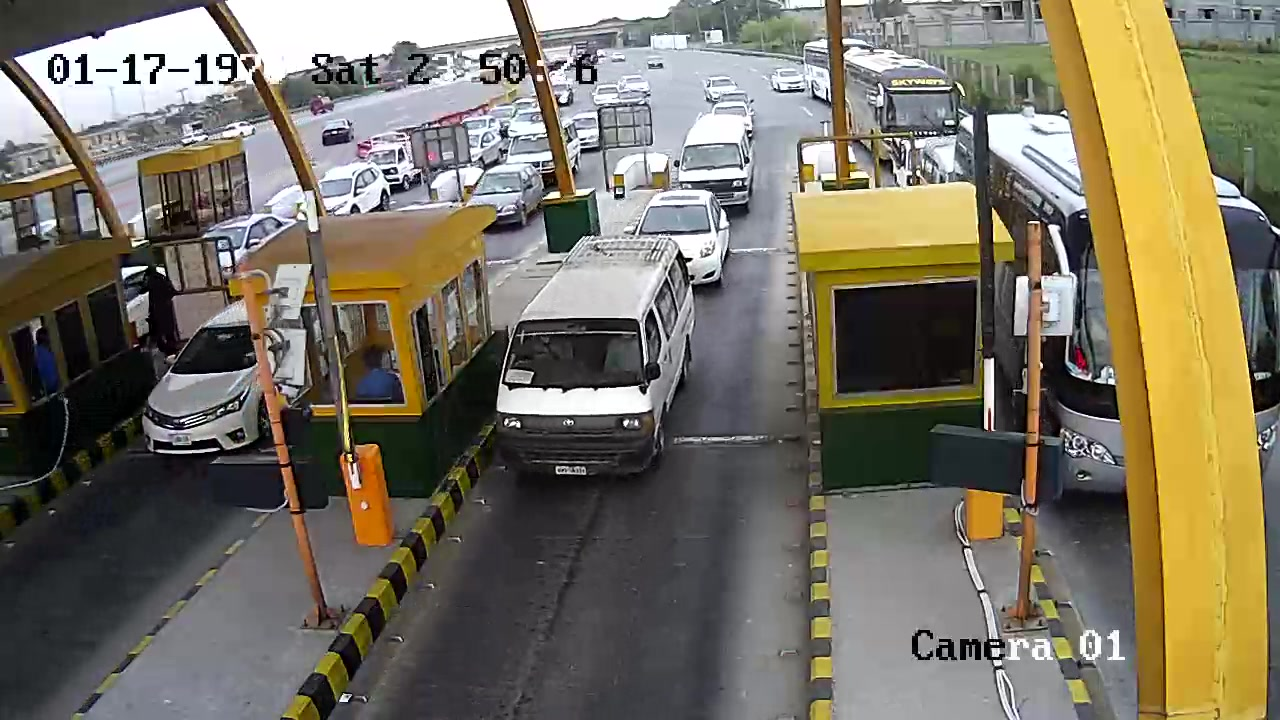F3: (494, 228, 700, 491)
